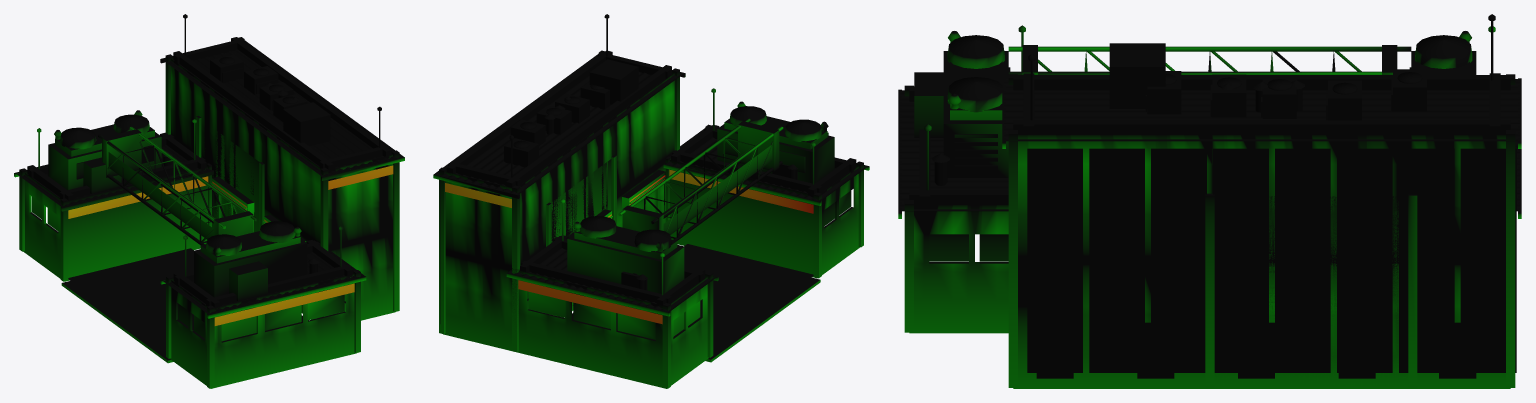
File: repairbay.glb
3 renders of one model, left to right at view 1: azimuth 30°, elevation 25°; view 2: azimuth 150°, elevation 25°; view 3: azimuth 270°, elevation 25°, orthographic. The views are drawn at different scales.
Parts seen in each view (by area): view 1: lod0; view 2: lod0; view 3: lod0.
Part boxes in pixels (x1,y1,x2,y2): lod0: (14,14,404,388); lod0: (433,14,869,388); lod0: (898,14,1521,388).
Size of what is drawn, in the model's own units: 13.69 by 11.86 by 20.14.
